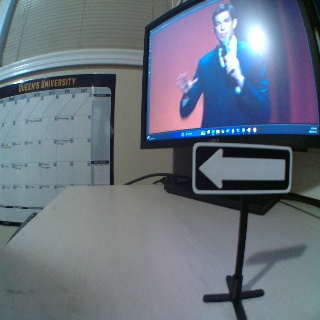sign_oneway_left: (192, 140, 292, 195)
